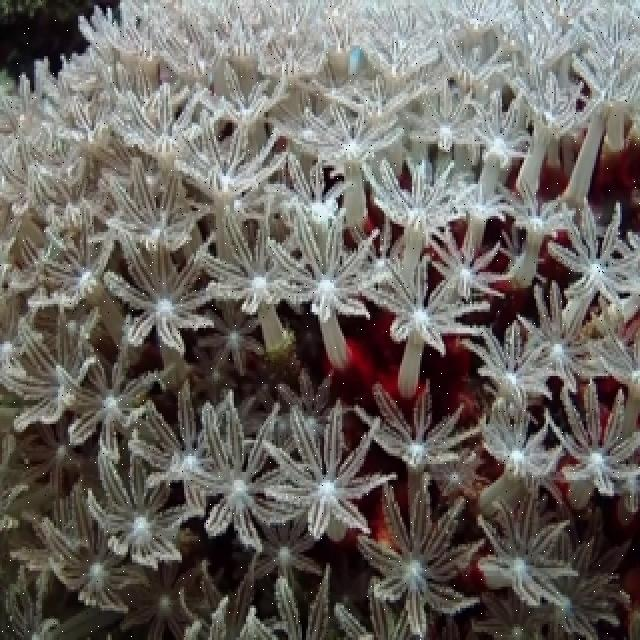reefs: (0, 0, 638, 637)
